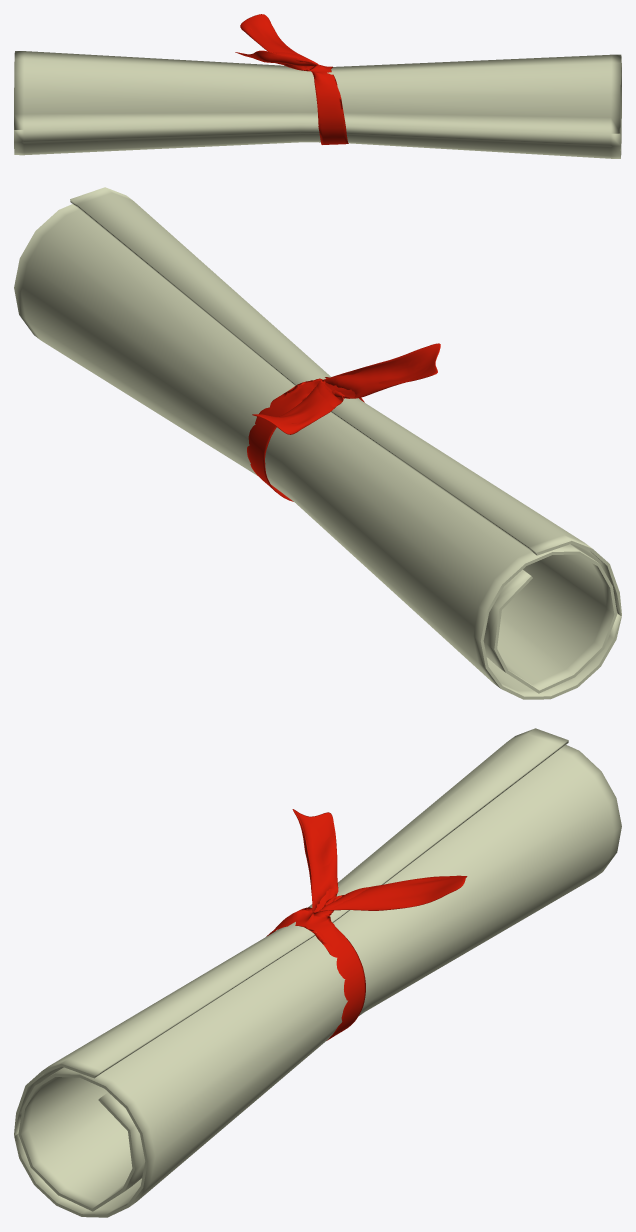
Rendered from diploma.fbx.
3 views of the same model, one above another, from view 1: azimuth 30°, elevation 25°; view 2: azimuth 150°, elevation 25°; view 3: azimuth 270°, elevation 25° (orthographic). The views are drawn at different scales.
Parts seen in each view (by area): view 1: diploma; view 2: diploma; view 3: diploma.
Part boxes in pixels (x1,y1,x2,y2): diploma: [14, 14, 621, 158]; diploma: [14, 187, 621, 699]; diploma: [14, 728, 621, 1217].
Size of the model in its own units: 1.75 by 0.4167 by 1.22.
